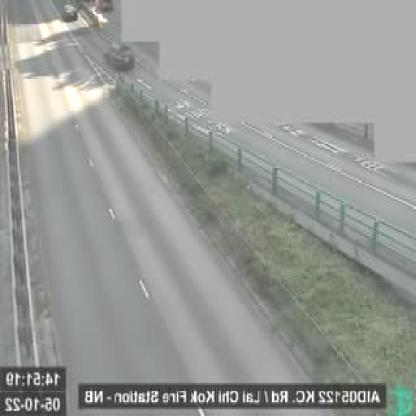Car: (107, 43, 135, 71)
